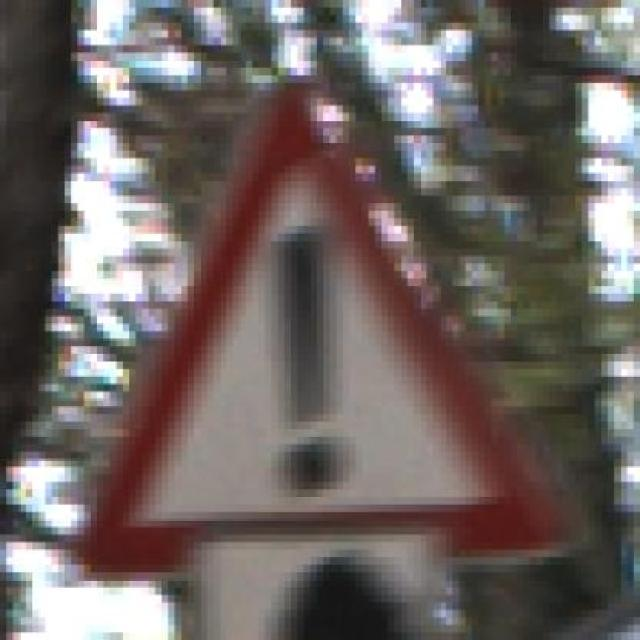Attention Please-: (71, 75, 569, 580)
